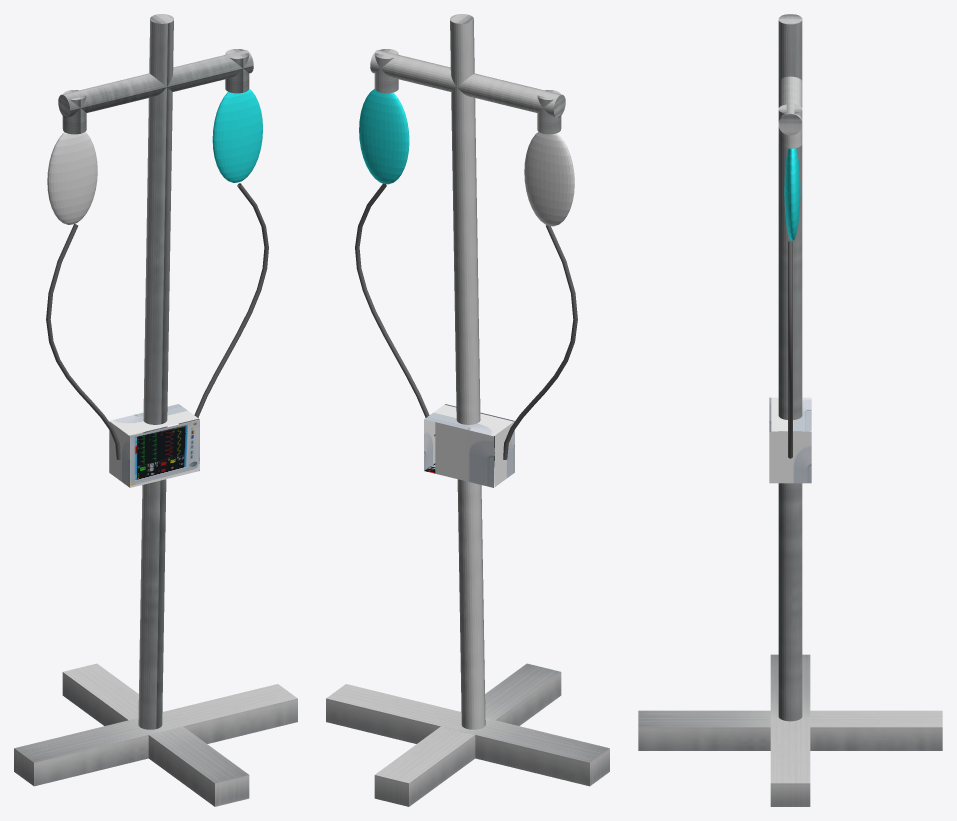
Rendered from Suero.fbx.
3 views of the same model, side by side, from view 1: azimuth 30°, elevation 25°; view 2: azimuth 150°, elevation 25°; view 3: azimuth 270°, elevation 25° (orthographic).
Visible parts, largest first — view 1: Cylinder, Cube, Cube.001, Cube.002, Cylinder.001, Sphere, Sphere.001, BezierCurve.001, BezierCurve, Cylinder.003, Cylinder.002; view 2: Cylinder, Cube, Cube.001, Cube.002, Cylinder.001, Sphere, Sphere.001, BezierCurve.001, BezierCurve, Cylinder.003, Cylinder.002; view 3: Cylinder, Cube.001, Cube, Cube.002, Sphere.001, Cylinder.001, BezierCurve, Cylinder.003.
Boxes of the visible parts, x1,y1,x2,y2 form: Cylinder: (138, 14, 173, 729); Cube: (14, 684, 297, 786); Cube.001: (62, 663, 249, 806); Cube.002: (109, 404, 199, 487); Cylinder.001: (58, 50, 253, 117); Sphere: (47, 132, 97, 224); Sphere.001: (212, 89, 262, 182); BezierCurve.001: (46, 224, 120, 459); BezierCurve: (194, 183, 268, 417); Cylinder.003: (225, 49, 249, 93); Cylinder.002: (62, 90, 86, 134); Cylinder: (450, 14, 485, 729); Cube: (326, 684, 609, 786); Cube.001: (374, 663, 561, 806); Cube.002: (424, 404, 514, 487); Cylinder.001: (370, 50, 565, 117); Sphere: (524, 132, 574, 226); Sphere.001: (359, 88, 409, 184); BezierCurve.001: (503, 225, 577, 459); BezierCurve: (355, 183, 435, 436); Cylinder.003: (374, 49, 398, 93); Cylinder.002: (537, 90, 561, 134); Cylinder: (778, 14, 802, 721); Cube.001: (638, 710, 942, 750); Cube: (770, 654, 810, 806); Cube.002: (769, 397, 811, 483); Sphere.001: (784, 148, 800, 240); Cylinder.001: (778, 76, 802, 135); BezierCurve: (788, 241, 792, 458); Cylinder.003: (778, 104, 802, 148).
Bounding box in the file's own units: 130 × 344 × 130.
11 materials, 7 textured.
